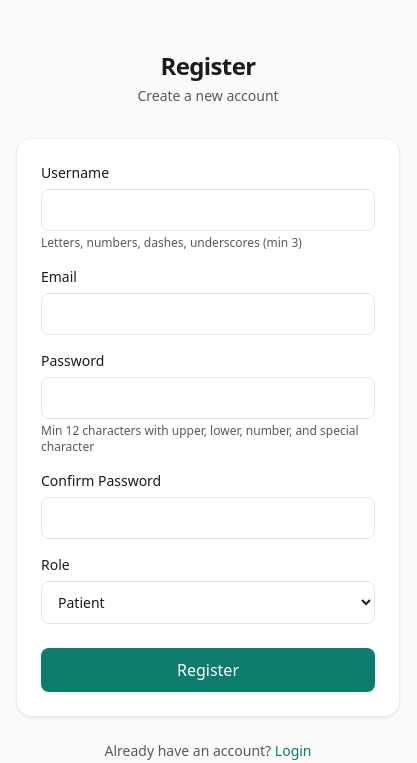
Test: RegisterPage › shows inline error when passwords do not match
Type "newuser" into the field named "username".
click(208, 210); type("newuser")  # box [41, 188, 375, 230]
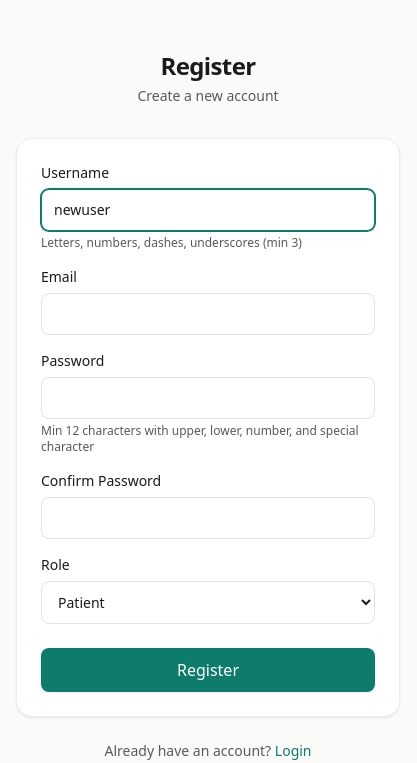
Type "new@test.com" into the field named "email".
click(208, 314); type("new@test.com")  # box [41, 292, 375, 334]
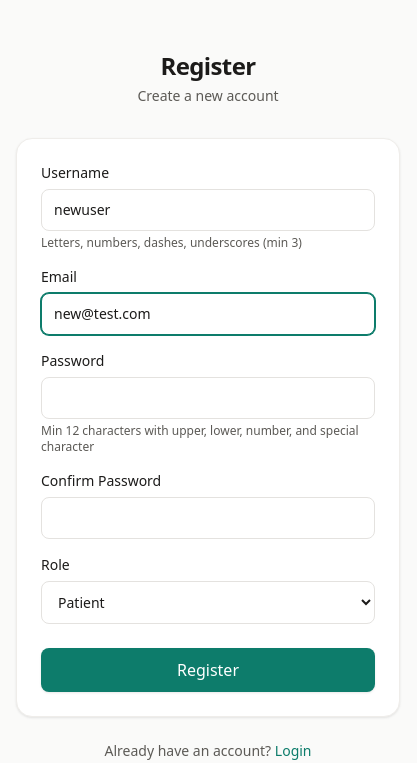
Type "MyClinic!2026x" into the password field named "password".
click(208, 398); type("MyClinic!2026x")  # box [41, 376, 375, 418]
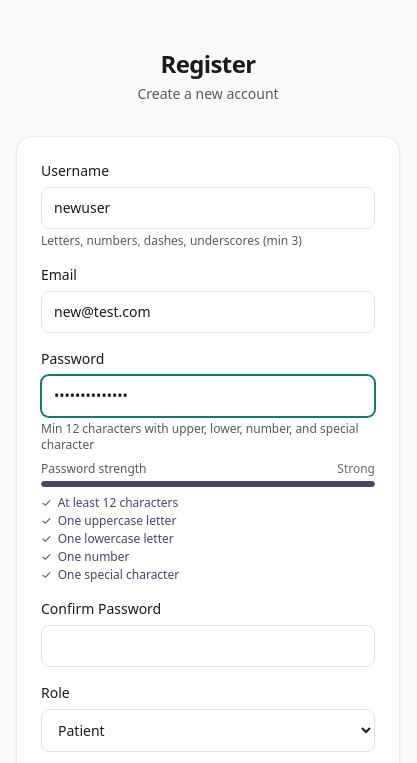
Type "MyClinic!2026y" into the password field named "confirmPassword".
click(208, 646); type("MyClinic!2026y")  # box [41, 625, 375, 667]
(page scrolled)
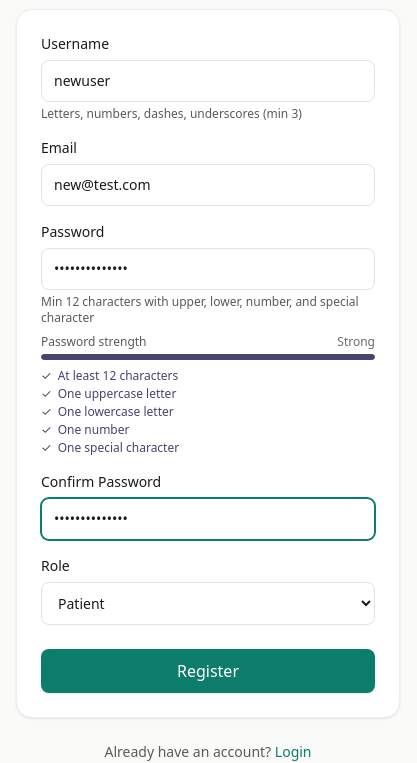
Click the button "Register".
click(208, 671)  # box [41, 649, 375, 693]
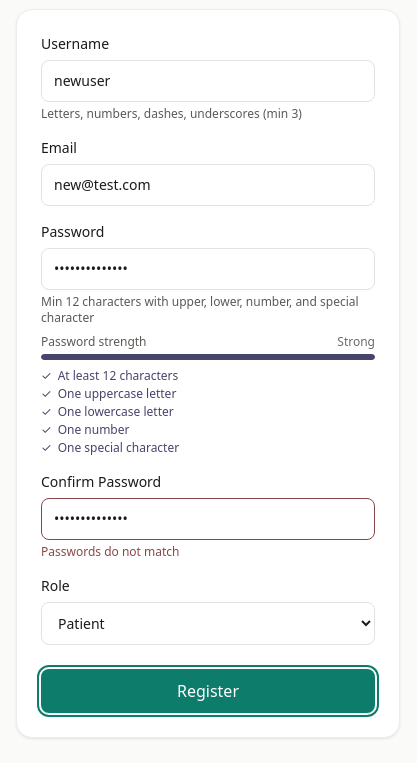
Now the text "Passwords do not match" is shown, box [41, 543, 180, 560]
